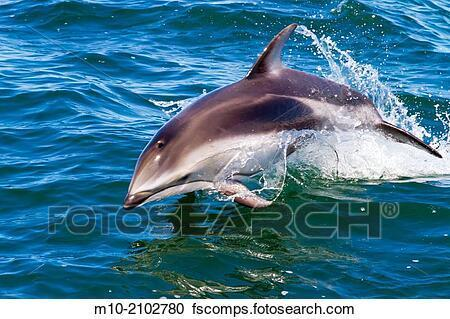fish: (117, 21, 443, 211)
